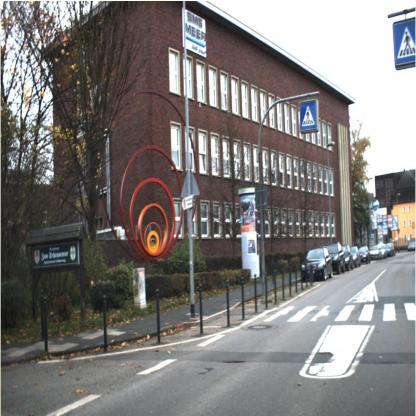mandatory: (395, 20, 415, 66), (298, 100, 320, 130)
